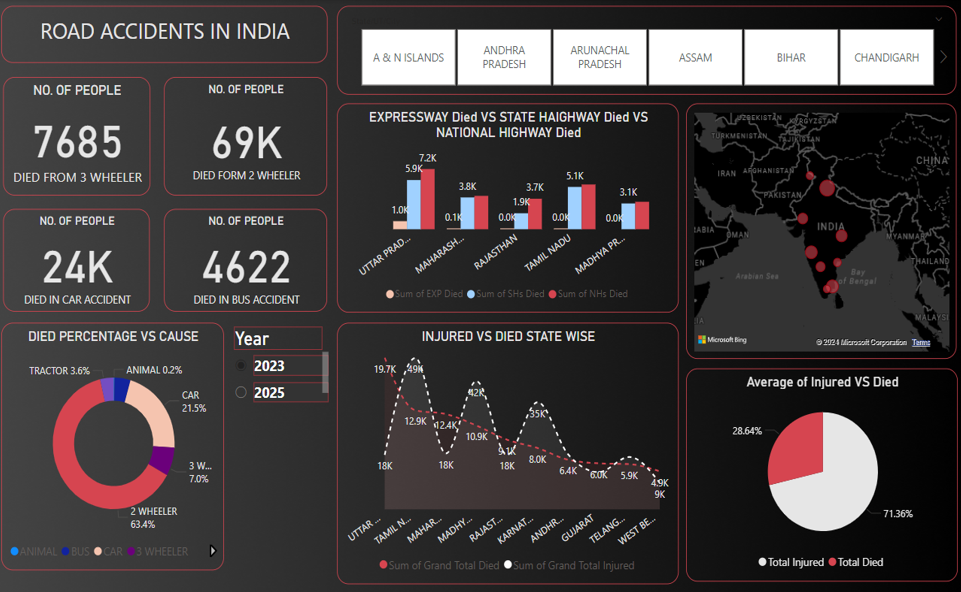

The dashboard page shown, as its layout file describes it:
{"tool":"powerbi","page":{"name":"Page 1","canvas":[1280,720],"ordinal":0},"visuals":[{"type":"areaChart","title":"INJURED VS FATALITIES STATE WISE","fields":{"Category":["newroadaccidents.State/UT/City"],"Y":["Sum(newroadaccidents.Grand Total Died)"],"Y2":["Sum(newroadaccidents.Grand Total Injured)"]},"box":[452.9,390,445.7,315.7],"z":0},{"type":"map","fields":{"Category":["newroadaccidents.State/UT/City"],"Size":["Sum(newroadaccidents.Grand Total Died)"]},"box":[908.2,125.5,352.7,309.1],"z":1000},{"type":"card","title":"NO. OF PEOPLE","fields":{"Values":["Sum(newroadaccidents.Bus Died)"]},"box":[227.1,252.9,212.9,124.3],"z":2000},{"type":"card","title":"NO. OF PEOPLE","fields":{"Values":["Sum(newroadaccidents.car Died)"]},"box":[17.1,252.9,191.4,124.3],"z":3000},{"type":"card","title":"NO. OF PEOPLE","fields":{"Values":["Sum(newroadaccidents.Two Wheeler Died)"]},"box":[227.1,92.9,212.9,142.9],"z":4000},{"type":"card","title":"NO. OF PEOPLE","fields":{"Values":["Sum(newroadaccidents.Three Wheeler Died)"]},"box":[17,93,192,143],"z":5000},{"type":"pieChart","title":"Average of Injured VS Fatalities","fields":{"Y":["Avg(newroadaccidents.Grand Total Injured)","Avg(newroadaccidents.Grand Total Died)"]},"box":[908.2,445.5,354.5,257.3],"z":6000},{"type":"slicer","fields":{"Values":["newroadaccidents.State/UT/City"]},"box":[452.7,7.3,808.2,107.3],"z":7000},{"type":"lineClusteredColumnComboChart","title":"EXPRESSWAY Fatalities VS STATE HAIGHWAY Fatalities VS NATIONAL HIGHWAY Fatalities","fields":{"Y":["Sum(newroadaccidents.EXP Died)","Sum(newroadaccidents.SHs Died)","Sum(newroadaccidents.NHs Died)"],"Category":["newroadaccidents.State/UT/City"]},"box":[452.8,114.1,455.2,265],"z":8000},{"type":"donutChart","title":"FATALITIES  PERCENTAGE VS CAUSE","fields":{"Y":["Sum(newroadaccidents.Animal Drawn Died)","Sum(newroadaccidents.Bus Died)","Sum(newroadaccidents.car Died)","Sum(newroadaccidents.Three Wheeler Died)","Sum(newroadaccidents.Two Wheeler Died)","Sum(newroadaccidents.Tractor Died)"]},"box":[14.7,390.2,290.8,299.4],"z":9000},{"type":"textbox","box":[14.3,7.1,425.7,68.6],"z":10000},{"type":"slicer","fields":{"Values":["newroadaccident.Year"]},"box":[305.5,390.2,141.1,101.8],"z":11000}]}

Visuals, with their boxes on the page's 1280x720 design canvas (x1, y1, x2, y2). These are canvas units, not pixel positions in the 961x592 screenshot, which may show the page scaled, cropped or inside an application window:
"INJURED VS FATALITIES STATE WISE" areaChart: [453,390,899,706]
map - newroadaccidents.State/UT/City x Sum(newroadaccidents.Grand Total Died): [908,126,1261,435]
"NO. OF PEOPLE" card: [227,253,440,377]
"NO. OF PEOPLE" card: [17,253,208,377]
"NO. OF PEOPLE" card: [227,93,440,236]
"NO. OF PEOPLE" card: [17,93,209,236]
"Average of Injured VS Fatalities" pieChart: [908,446,1263,703]
slicer - newroadaccidents.State/UT/City: [453,7,1261,115]
"EXPRESSWAY Fatalities VS STATE HAIGHWAY Fatalities VS NATIONAL HIGHWAY Fatalities" lineClusteredColumnComboChart: [453,114,908,379]
"FATALITIES  PERCENTAGE VS CAUSE" donutChart: [15,390,306,690]
textbox: [14,7,440,76]
slicer - newroadaccident.Year: [306,390,447,492]
